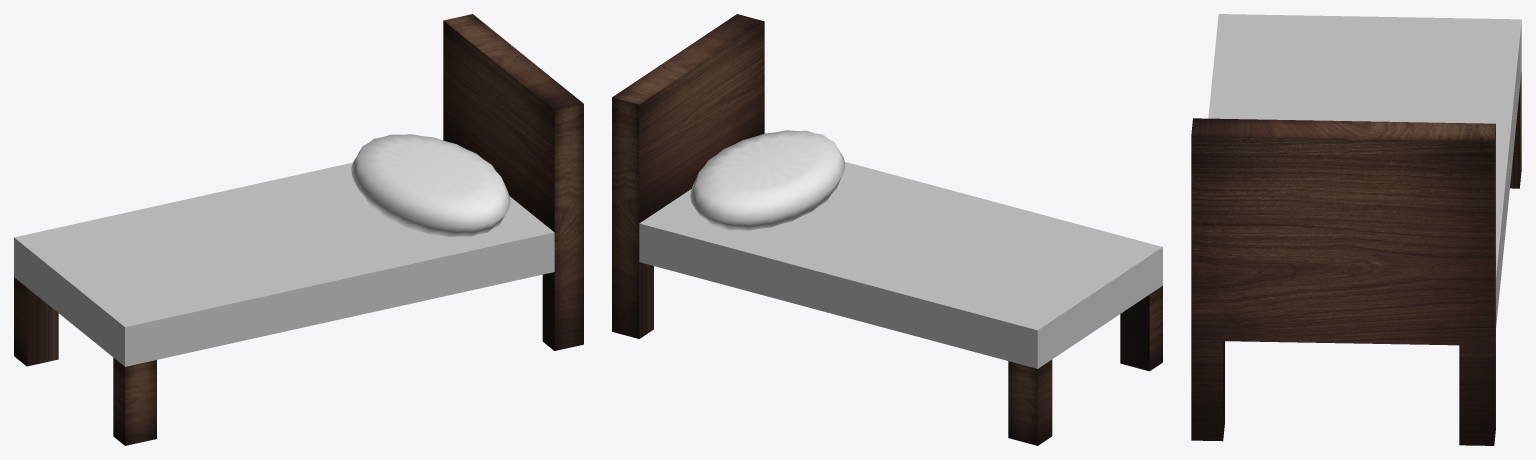
File: bed.fbx
The picture shows the model from 3 angles, left to right: view 1: azimuth 30°, elevation 25°; view 2: azimuth 150°, elevation 25°; view 3: azimuth 270°, elevation 25°; orthographic projection. The views are drawn at different scales.
Visible parts, largest first — view 1: pCube3, pCylinder1; view 2: pCube3, pCylinder1; view 3: pCube3.
Part boxes in pixels (bbox=[...]): pCube3: bbox=[14, 14, 583, 445]; pCylinder1: bbox=[351, 134, 510, 237]; pCube3: bbox=[612, 14, 1162, 445]; pCylinder1: bbox=[690, 130, 845, 230]; pCube3: bbox=[1191, 14, 1521, 445].
Bounding box in the file's own units: 8.8 × 4.43 × 4.36.
